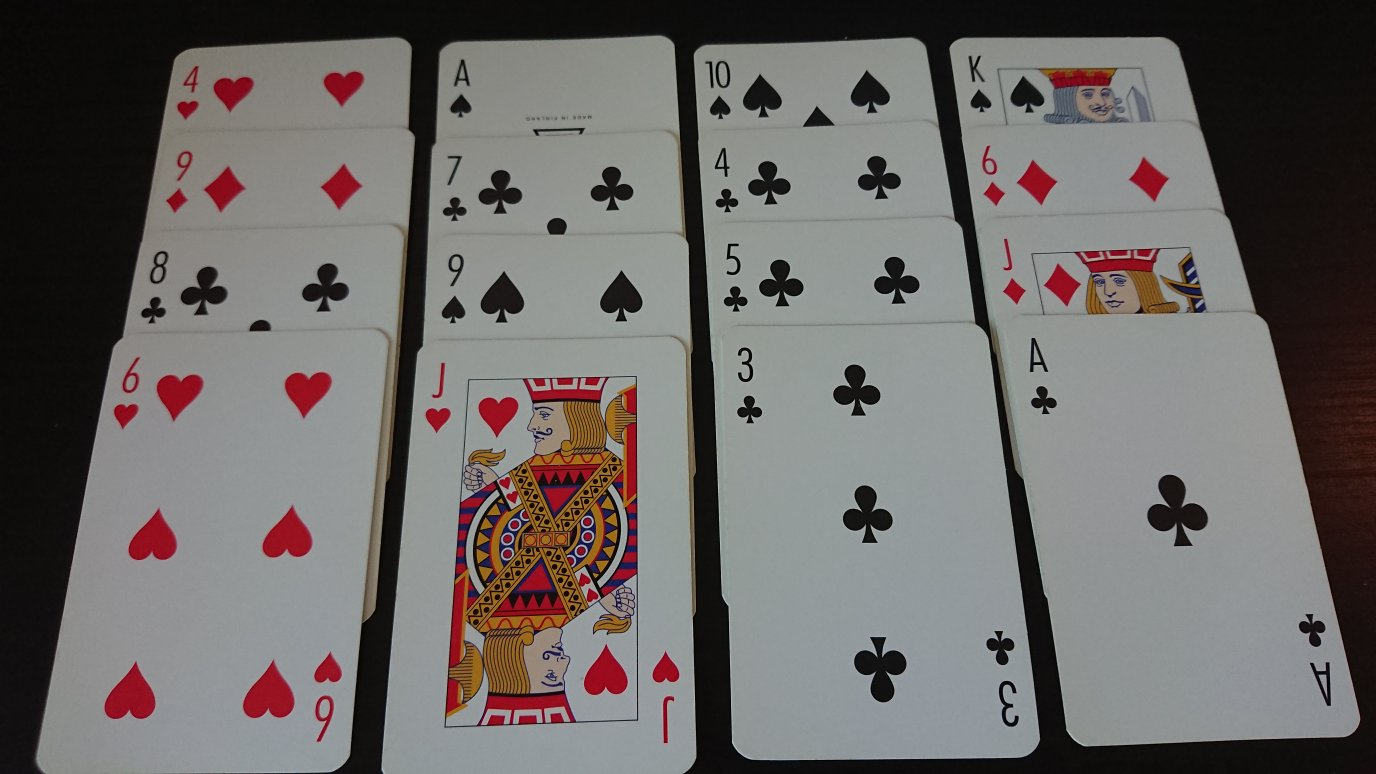10S: (700, 53, 736, 125)
3C: (728, 341, 770, 430)
4C: (706, 138, 743, 218)
4H: (172, 56, 207, 129)
5C: (716, 238, 753, 318)
6D: (971, 136, 1012, 214)
6H: (108, 351, 148, 435)
7C: (437, 149, 472, 227)
8C: (136, 245, 175, 330)
9D: (160, 143, 198, 217)
9S: (434, 248, 474, 331)
AC: (1017, 331, 1065, 421)
AS: (446, 53, 477, 123)
JD: (989, 231, 1035, 308)
JH: (419, 354, 458, 439)
KS: (961, 48, 1000, 118)
